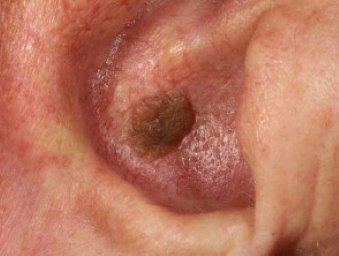seborrheic keratosis: (84, 60, 250, 190)
